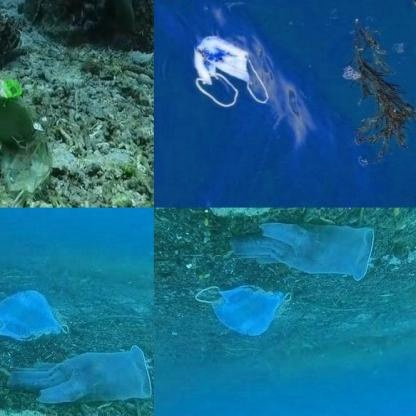Mask: (0, 64, 54, 207), (189, 32, 274, 109), (192, 282, 292, 339), (0, 290, 71, 342)
glove: (228, 223, 375, 286), (6, 344, 153, 405)
